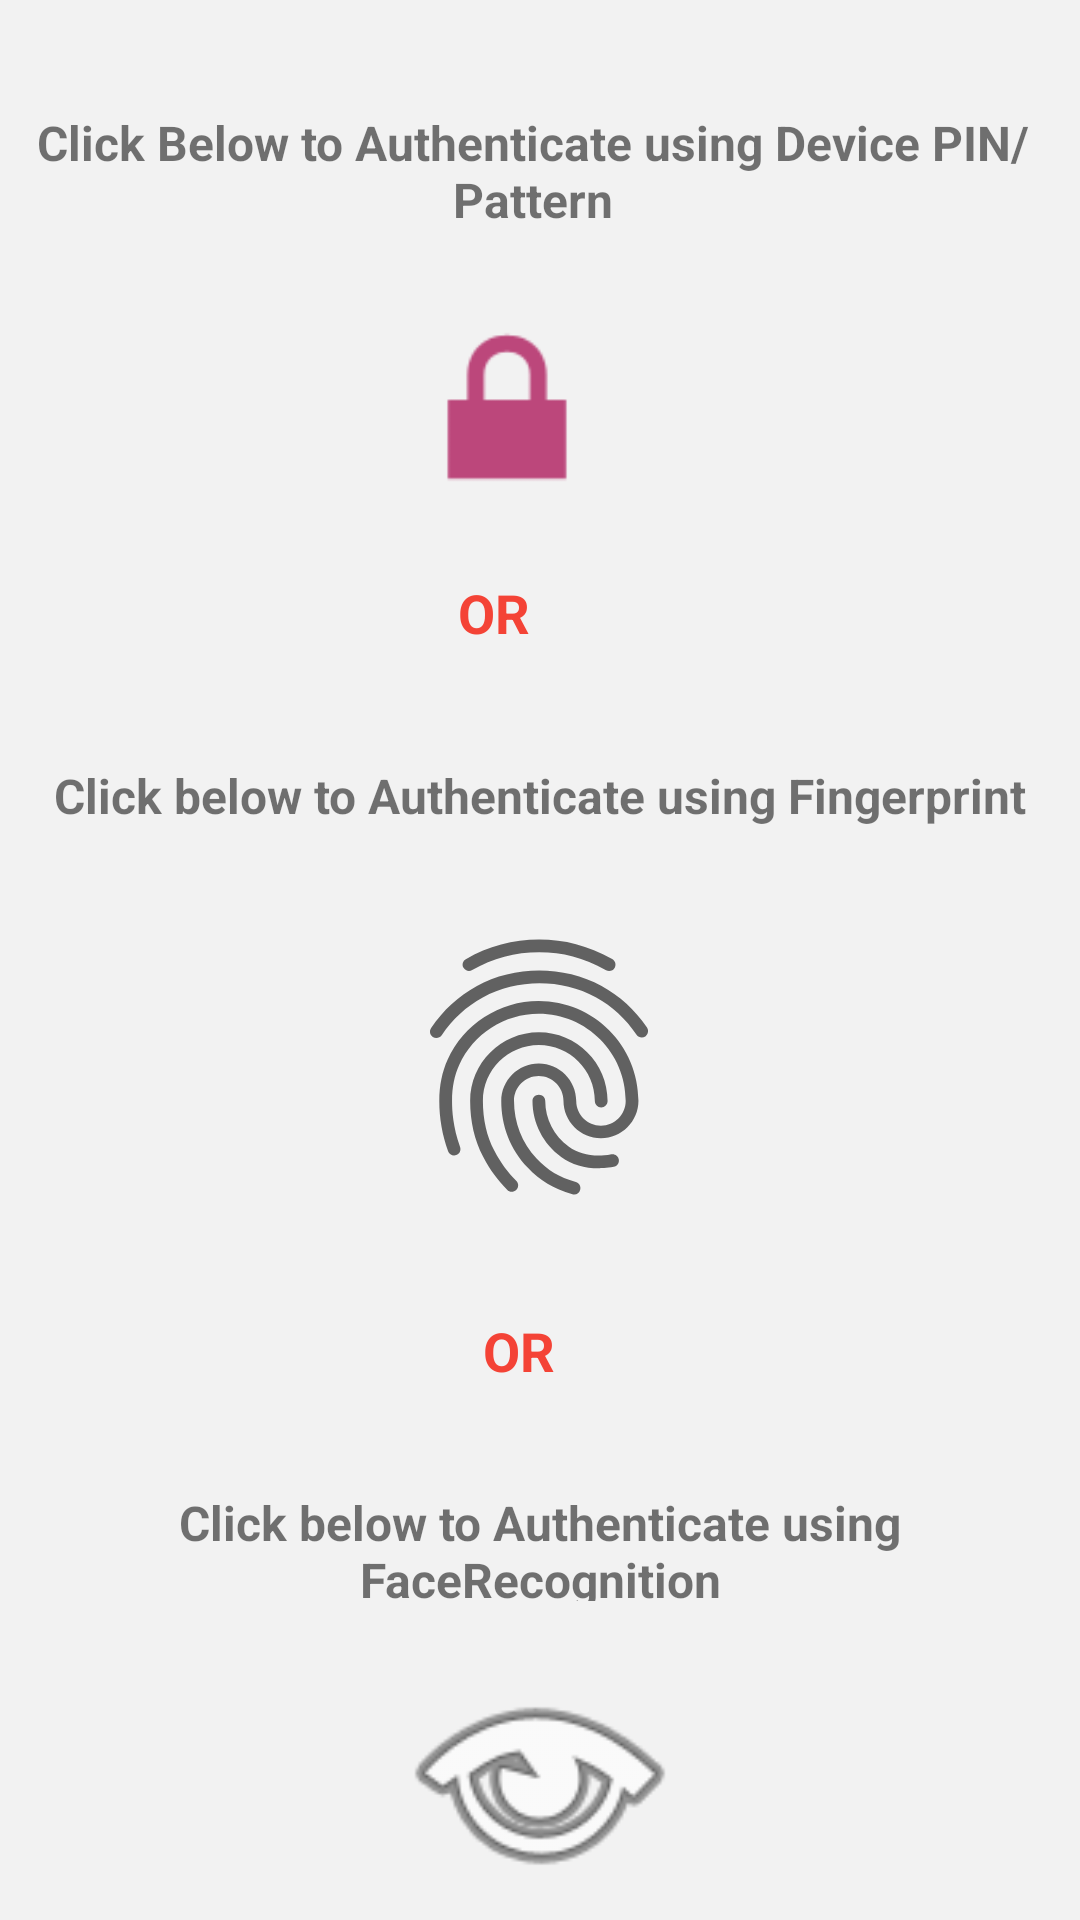

Where icons sit on this 1080w x 1920h app screen, as (x1, y1, x2, y2):
lock: (447, 334, 567, 480)
view: (415, 1707, 665, 1865)
